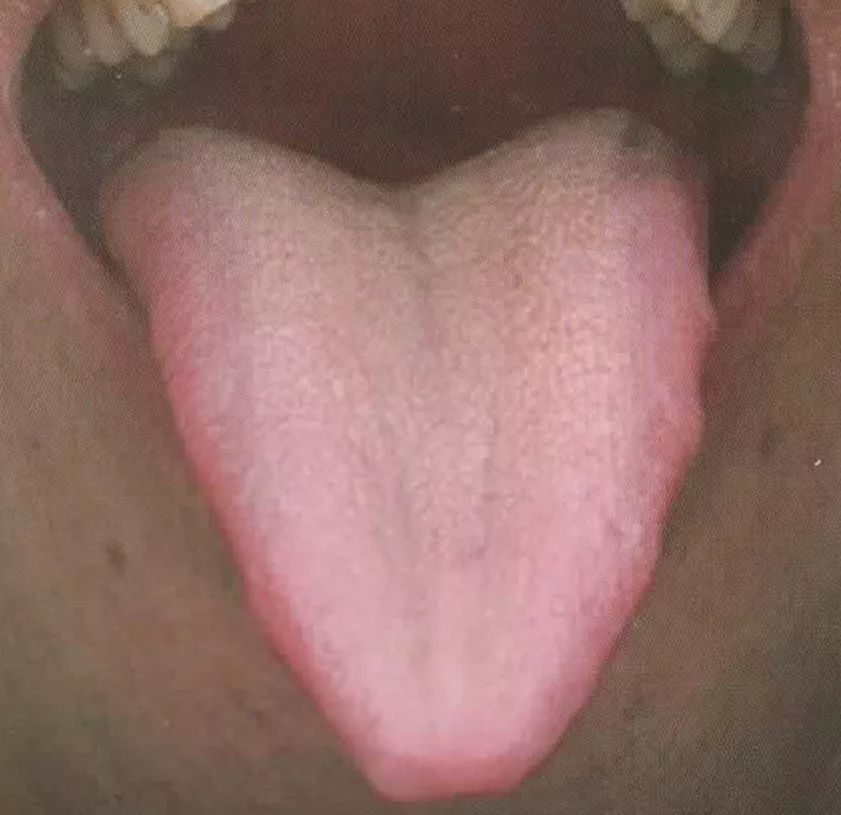baitaishe: (99, 106, 718, 802)
shenquao: (218, 107, 605, 209)
shoushe: (98, 106, 717, 802)
